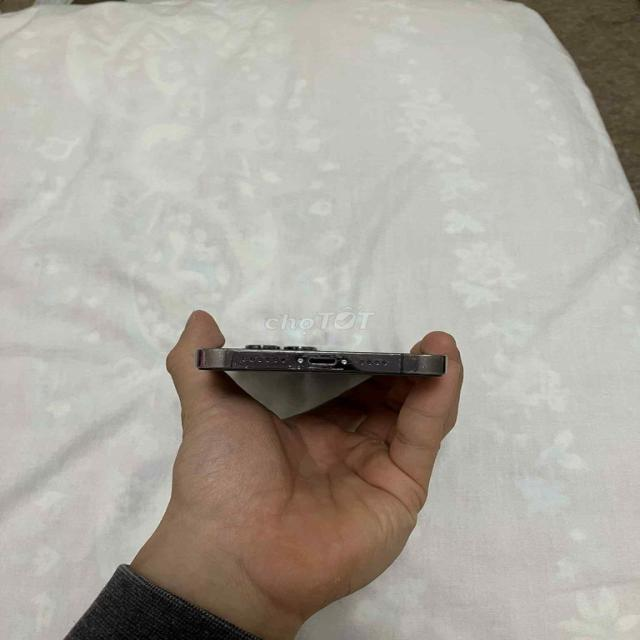gen_14: (195, 331, 468, 400)
